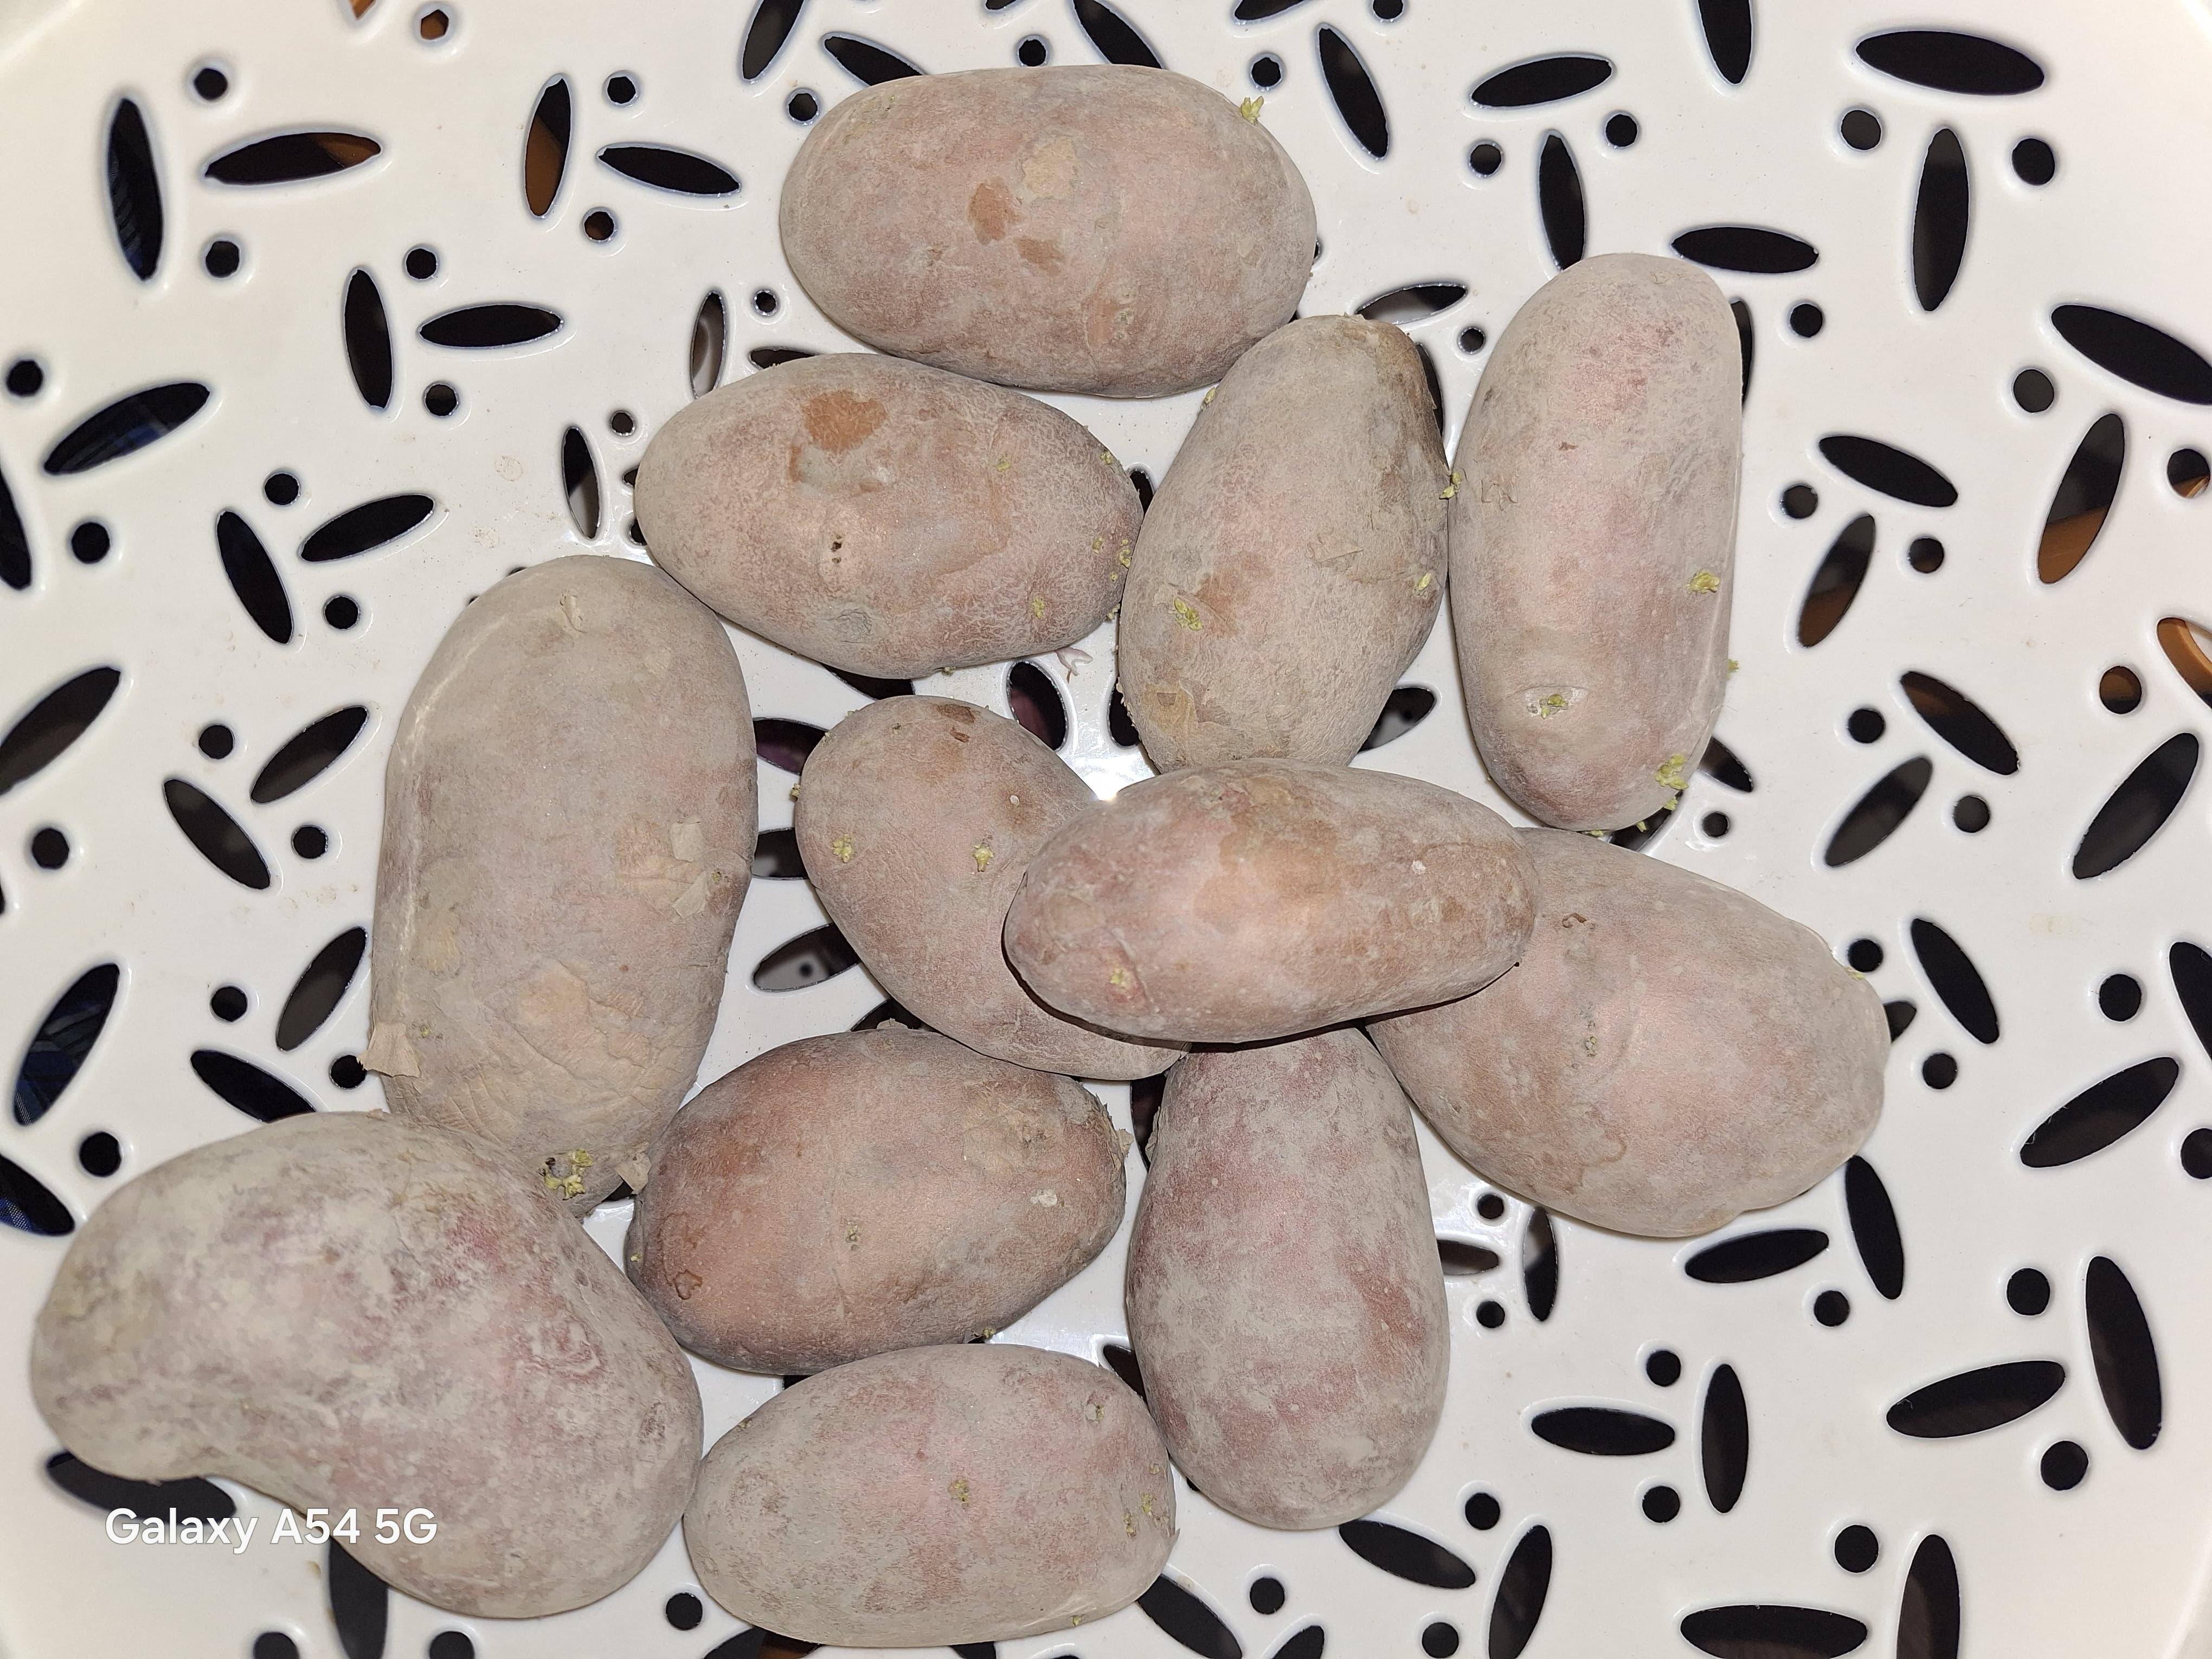non-mango: (28, 58, 1895, 1647)
